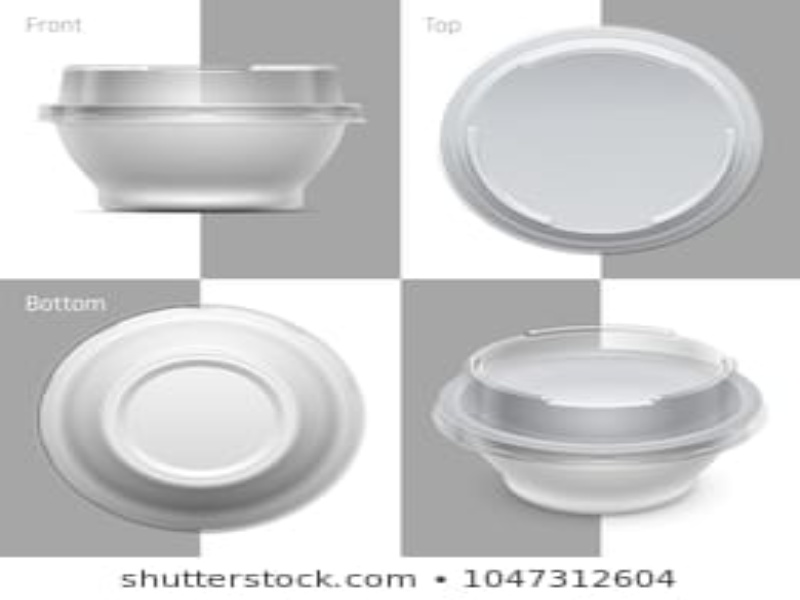plastic-container: (428, 323, 776, 519), (31, 60, 364, 215)
